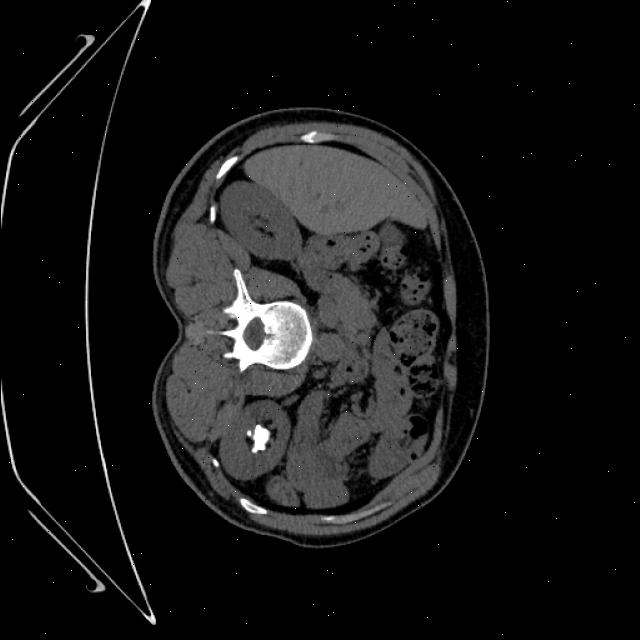kidneystone: (246, 424, 270, 454)
